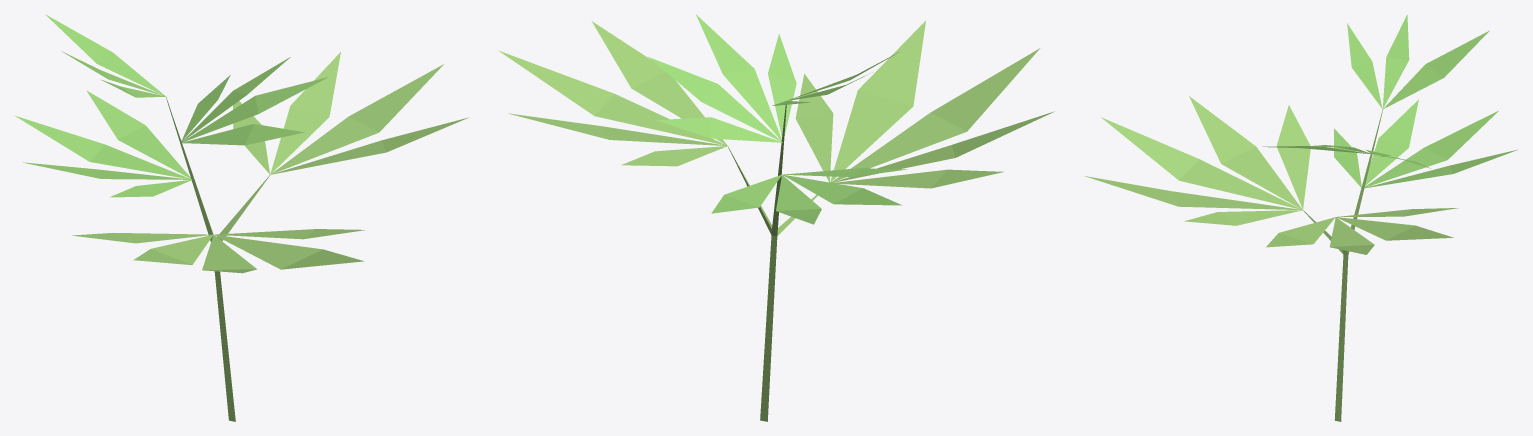
The model's file is Plant_i_TwoS_08.fbx.
3 renders of one model, left to right at view 1: azimuth 30°, elevation 25°; view 2: azimuth 150°, elevation 25°; view 3: azimuth 270°, elevation 25°, orthographic. The views are drawn at different scales.
Parts seen in each view (by area): view 1: Plant_i_TwoS_08; view 2: Plant_i_TwoS_08; view 3: Plant_i_TwoS_08.
Part boxes in pixels (x1,y1,x2,y2): Plant_i_TwoS_08: (15,14,468,421); Plant_i_TwoS_08: (498,14,1054,421); Plant_i_TwoS_08: (1085,14,1517,421).
Bounding box in the file's own units: 0.5372 × 0.4643 × 0.5295.
